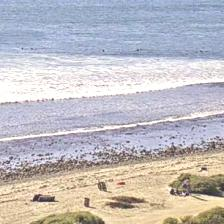surfer: (136, 48, 142, 52), (200, 50, 208, 52), (21, 48, 28, 50), (30, 48, 37, 50), (102, 49, 104, 52)
